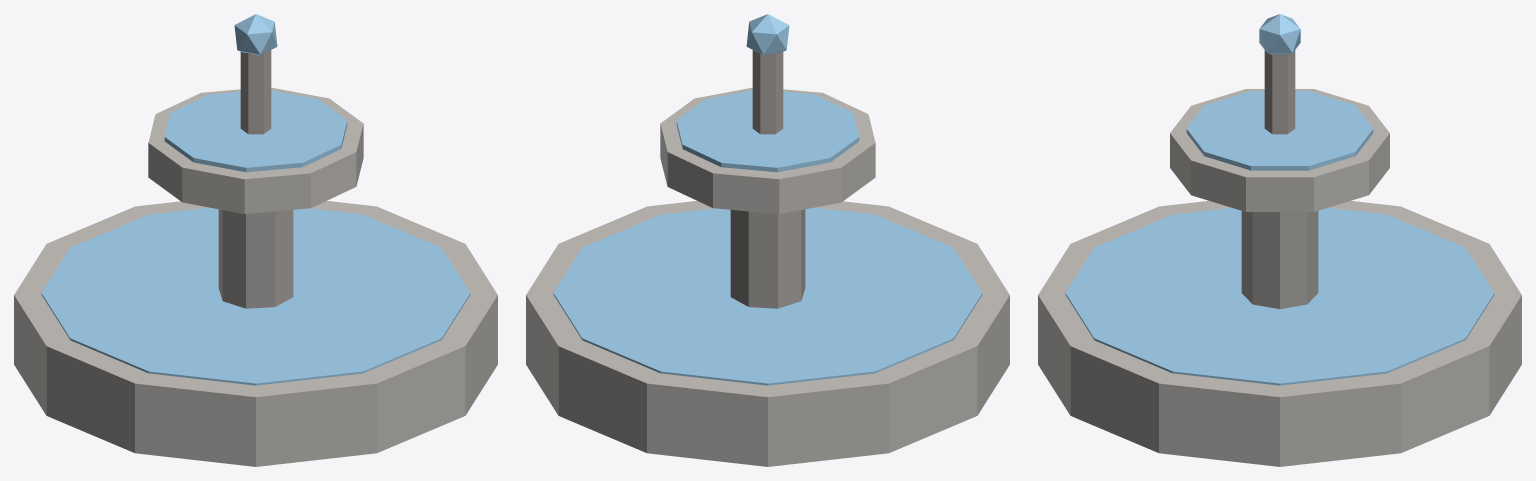
File: fountain.glb
The picture shows the model from 3 angles, left to right: view 1: azimuth 30°, elevation 25°; view 2: azimuth 150°, elevation 25°; view 3: azimuth 270°, elevation 25°; orthographic projection.
Visible parts, largest first — view 1: fountain; view 2: fountain; view 3: fountain.
Part boxes in pixels (x1,y1,x2,y2): fountain: (14, 14, 497, 466); fountain: (526, 14, 1009, 466); fountain: (1038, 14, 1521, 466).
Bounding box in the file's own units: 4.4 × 3.52 × 4.4.
